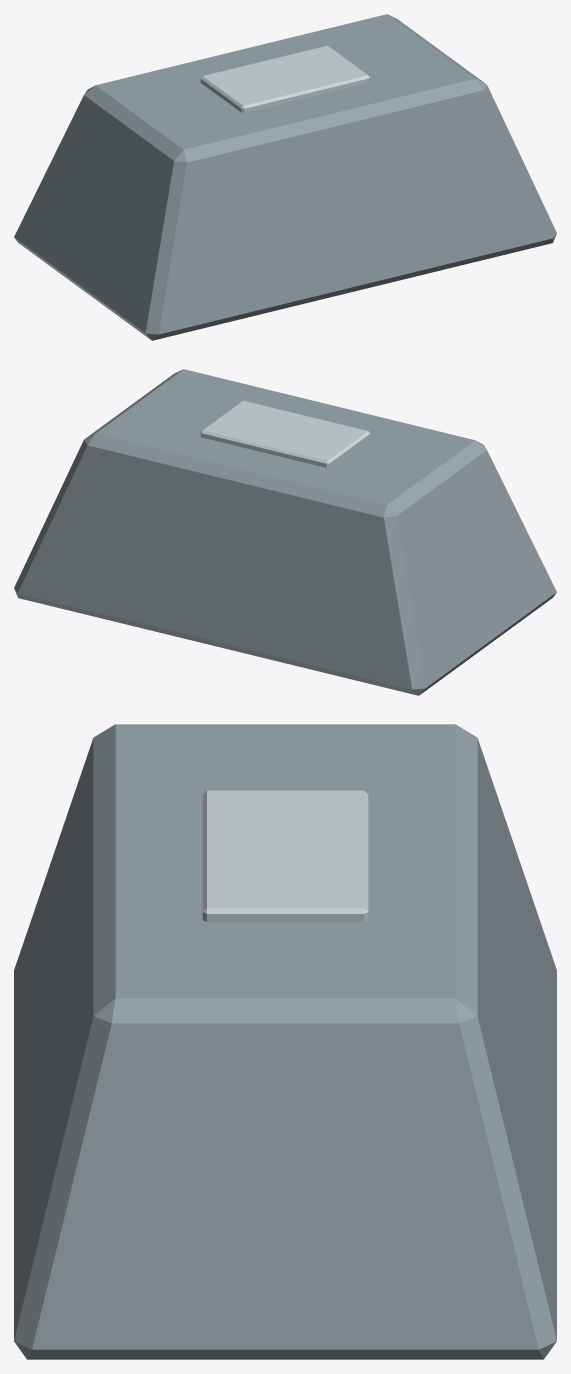
File: FTF_Product_IronIngot_Drop.glb
The picture shows the model from 3 angles, top to bottom: view 1: azimuth 30°, elevation 25°; view 2: azimuth 150°, elevation 25°; view 3: azimuth 270°, elevation 25°; orthographic projection. The views are drawn at different scales.
Parts seen in each view (by area): view 1: IronIngot_Mesh; view 2: IronIngot_Mesh; view 3: IronIngot_Mesh.
Part boxes in pixels (left/top/right/bottom): IronIngot_Mesh: left=14, top=14, right=556, bottom=340; IronIngot_Mesh: left=14, top=369, right=556, bottom=695; IronIngot_Mesh: left=14, top=724, right=556, bottom=1359.
Size of the model in its own units: 0.4146 by 0.161 by 0.246.
